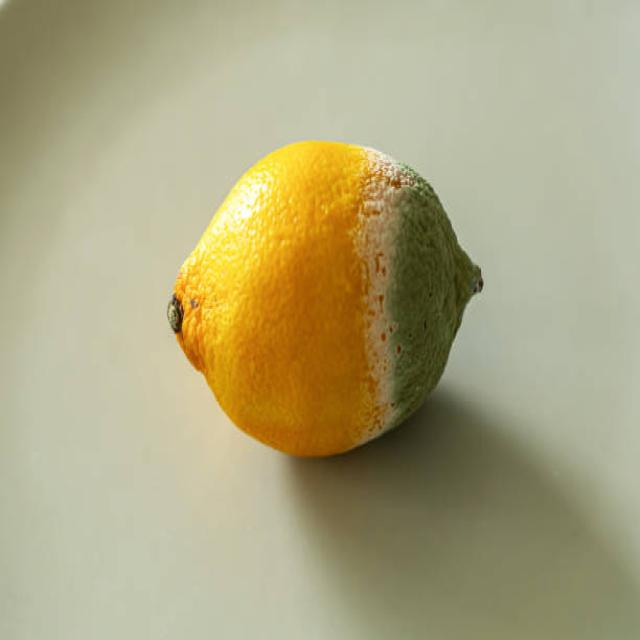Rotten: (165, 136, 483, 458)
